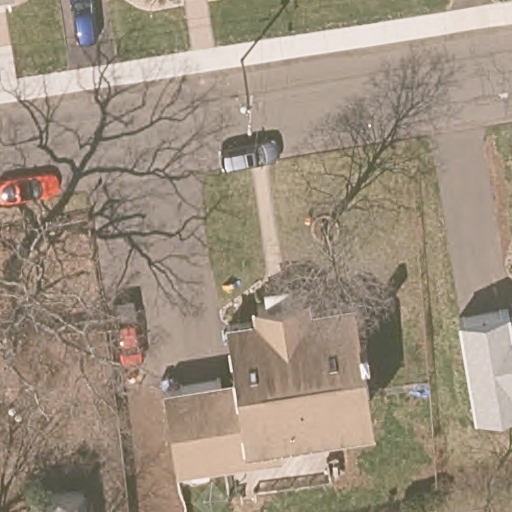DT: (237, 60, 257, 136)
